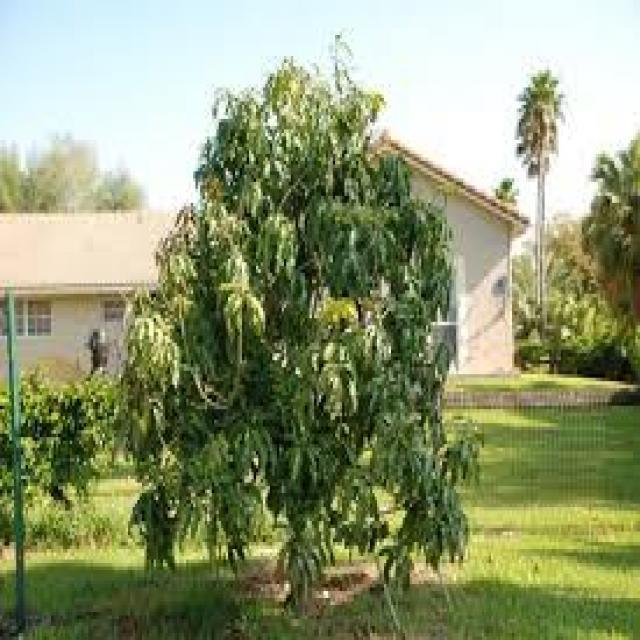tree: (137, 91, 446, 614)
